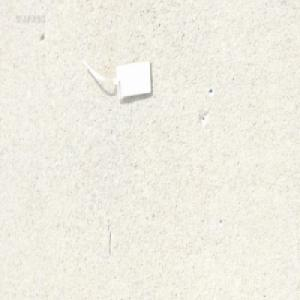LuggageTag: (81, 56, 153, 103)
